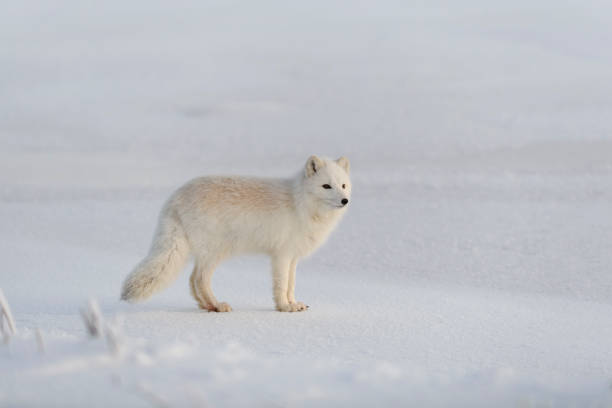arcticfox: (309, 163, 353, 222)
